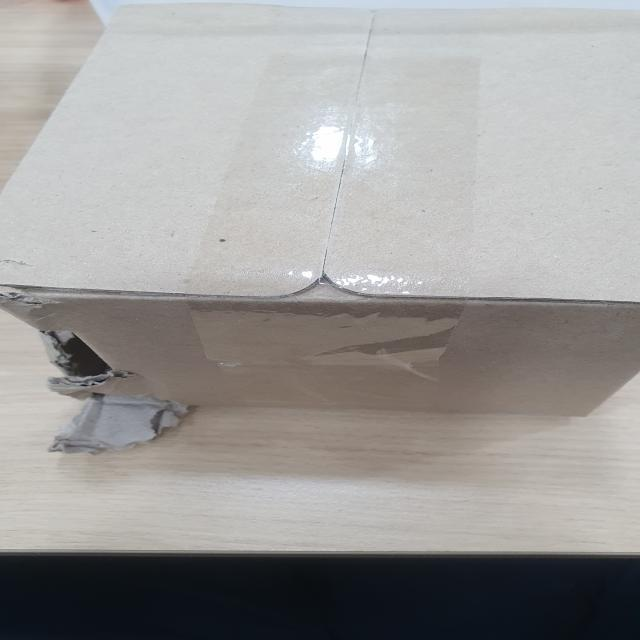hole: (32, 329, 140, 391)
